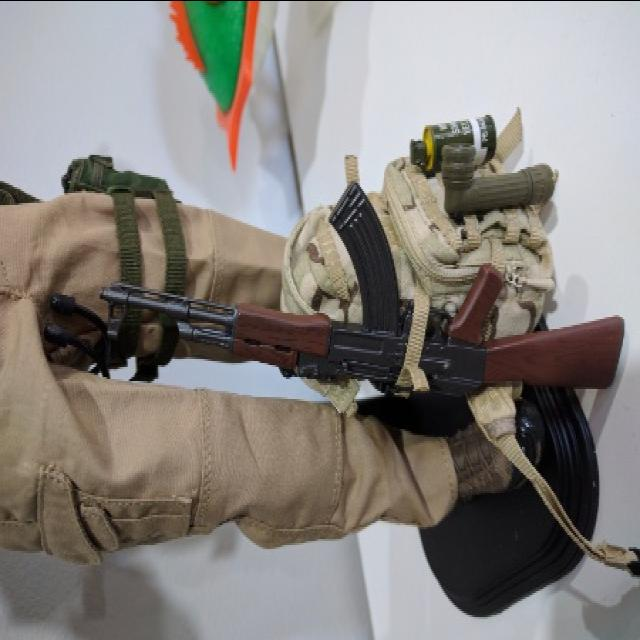rifle: (93, 285, 627, 407)
